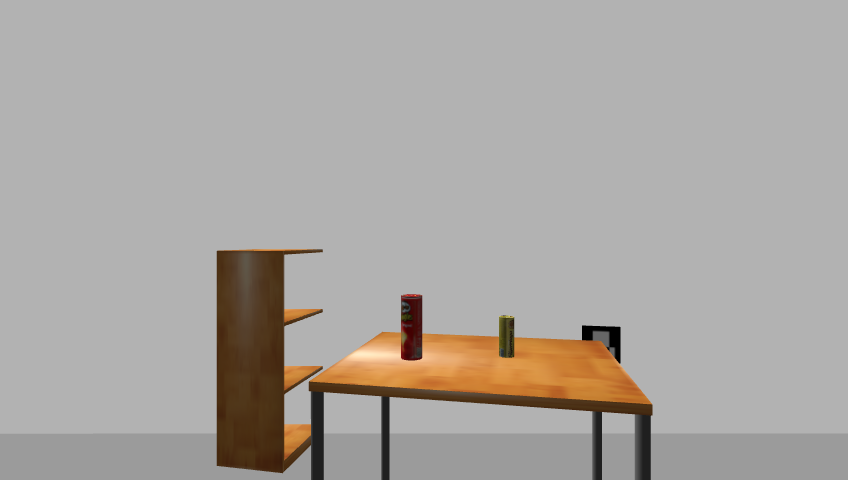aruco marker: (579, 323, 625, 367)
biscuits pack: (497, 316, 516, 360)
bookshelf: (212, 246, 330, 475)
dinner table: (303, 332, 660, 480)
pringles can: (398, 293, 423, 363)
